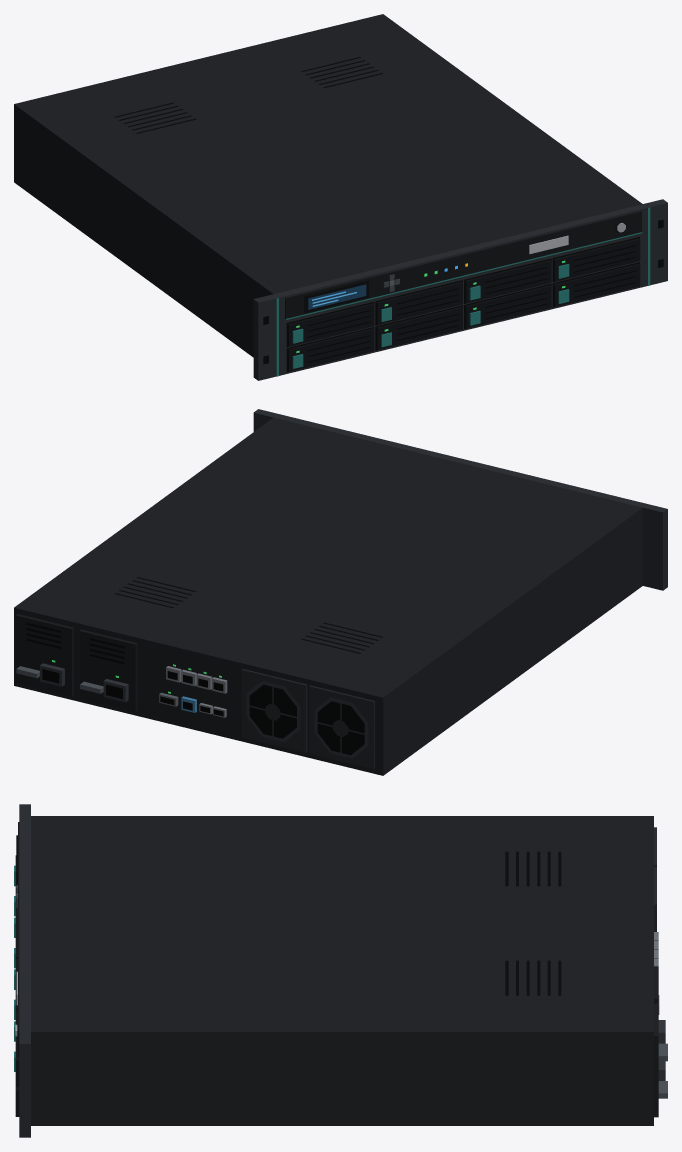
File: Storage_NAS_Rack.glb
3 renders of one model, top to bottom at view 1: azimuth 30°, elevation 25°; view 2: azimuth 150°, elevation 25°; view 3: azimuth 270°, elevation 25°, orthographic. The views are drawn at different scales.
Visible parts, largest first — view 1: Body, Display; view 2: Body; view 3: Body.
Boxes of the visible parts, left/top/right/bottom form: Body: left=14, top=14, right=667, bottom=380; Display: left=308, top=284, right=366, bottom=309; Body: left=14, top=409, right=667, bottom=775; Body: left=14, top=804, right=667, bottom=1137.
Bounding box in the file's own units: 0.4826 × 0.0886 × 0.5565.
